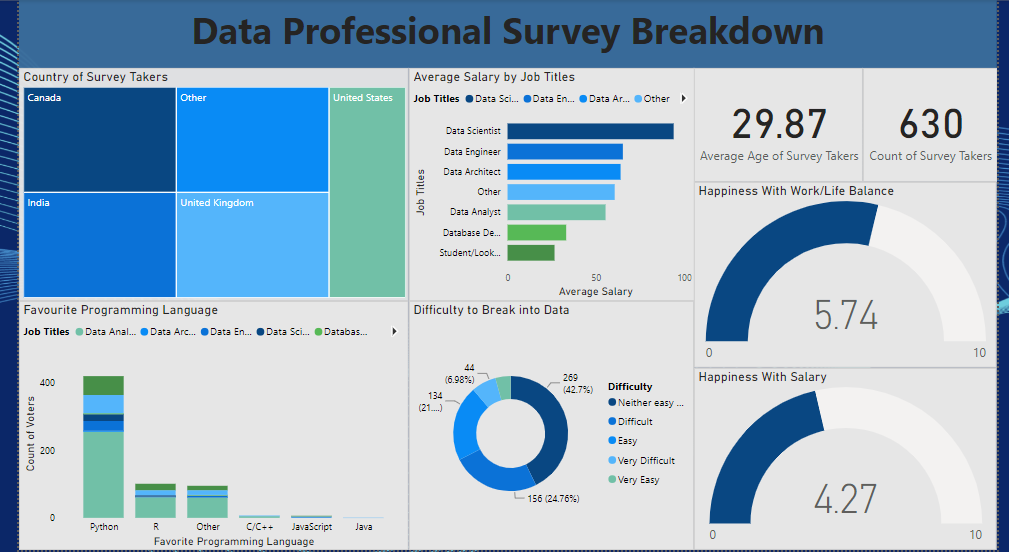

Layout of this report page (visuals, bound fields, positions):
{"tool":"powerbi","page":{"name":"Page 1","canvas":[1280,720],"ordinal":0},"visuals":[{"type":"textbox","box":[0,0,1280,89.4],"z":0},{"type":"card","fields":{"Values":["Count(Data Professional Survey.Unique ID)"]},"box":[1104.5,89.4,175.5,149],"z":1000},{"type":"card","fields":{"Values":["Avg(Data Professional Survey.Q10 - Current Age)"]},"box":[883.6,89,221.2,149.2],"z":2000},{"type":"barChart","title":"Average Salary by Job Titles","fields":{"Category":["Data Professional Survey.Q1 - Which Title Best Fits your Current Role?.1"],"Y":["Avg(Data Professional Survey.Average salary)"],"Series":["Data Professional Survey.Q1 - Which Title Best Fits your Current Role?.1"]},"box":[510,89.4,374.2,304.7],"z":3000},{"type":"columnChart","title":"Favourite Programming Language","fields":{"Category":["Data Professional Survey.Q5 - Favorite Programming Language.1"],"Y":["CountNonNull(Data Professional Survey.Unique ID)"],"Series":["Data Professional Survey.Q1 - Which Title Best Fits your Current Role?.1"]},"box":[0,394.1,510,326.2],"z":4000},{"type":"treemap","title":"Country of Survey Takers","fields":{"Group":["Data Professional Survey.Q11 - Which Country do you live in?.1"],"Values":["Count(Data Professional Survey.Q11 - Which Country do you live in?.1)"]},"box":[0,89.4,510,304.7],"z":5000},{"type":"gauge","title":"Happiness With Work/Life Balance","fields":{"Y":["Avg(Data Professional Survey.Q6 - How Happy are you in your Current Position with the following? (Work/Life Balance))"],"MinValue":["Min(Data Professional Survey.Q6 - How Happy are you in your Current Position with the following? (Work/Life Balance))"],"MaxValue":["Max(Data Professional Survey.Q6 - How Happy are you in your Current Position with the following? (Work/Life Balance))"]},"box":[884.2,238.4,395.8,243.4],"z":6000},{"type":"gauge","title":"Happiness With Salary","fields":{"Y":["Avg(Data Professional Survey.Q6 - How Happy are you in your Current Position with the following? (Salary))"],"MinValue":["Min(Data Professional Survey.Q6 - How Happy are you in your Current Position with the following? (Salary))"],"MaxValue":["Max(Data Professional Survey.Q6 - How Happy are you in your Current Position with the following? (Salary))"]},"box":[884.2,481.9,395.8,238.4],"z":7000},{"type":"donutChart","title":"Difficulty to Break into Data","fields":{"Category":["Data Professional Survey.Q7 - How difficult was it for you to break into Data?"],"Y":["CountNonNull(Data Professional Survey.Q7 - How difficult was it for you to break into Data?)"]},"box":[510.5,394,373.1,326],"z":8000}]}

Visuals, with their boxes in screenshot pixels (x1, y1, x2, y2), scaled from the page's 1280x720 canvas onto the 1009x552 screenshot:
textbox: detection(0, 0, 1008, 69)
card - Count(Data Professional Survey.Unique ID): detection(871, 69, 1008, 183)
card - Avg(Data Professional Survey.Q10 - Current Age): detection(697, 68, 871, 183)
"Average Salary by Job Titles" barChart: detection(402, 69, 697, 302)
"Favourite Programming Language" columnChart: detection(0, 302, 402, 551)
"Country of Survey Takers" treemap: detection(0, 69, 402, 302)
"Happiness With Work/Life Balance" gauge: detection(697, 183, 1008, 369)
"Happiness With Salary" gauge: detection(697, 369, 1008, 551)
"Difficulty to Break into Data" donutChart: detection(402, 302, 697, 551)
